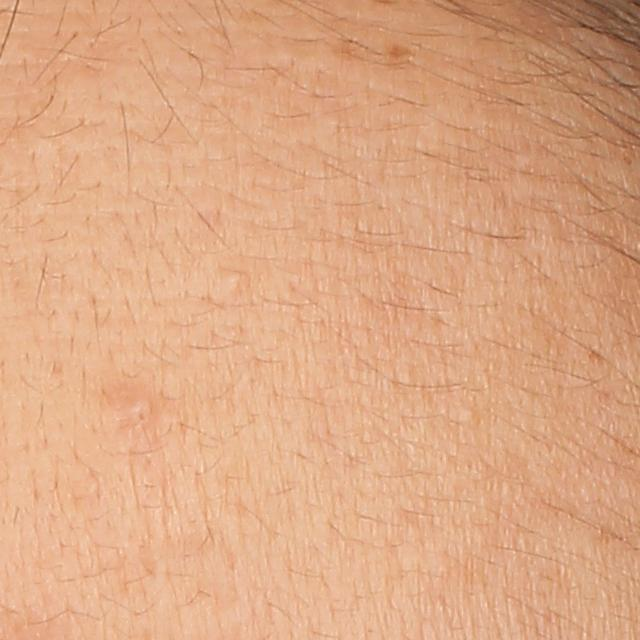comedo: (119, 393, 164, 436), (459, 408, 482, 426)
